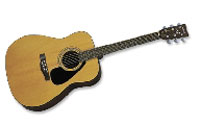guitar: (5, 23, 190, 113)
